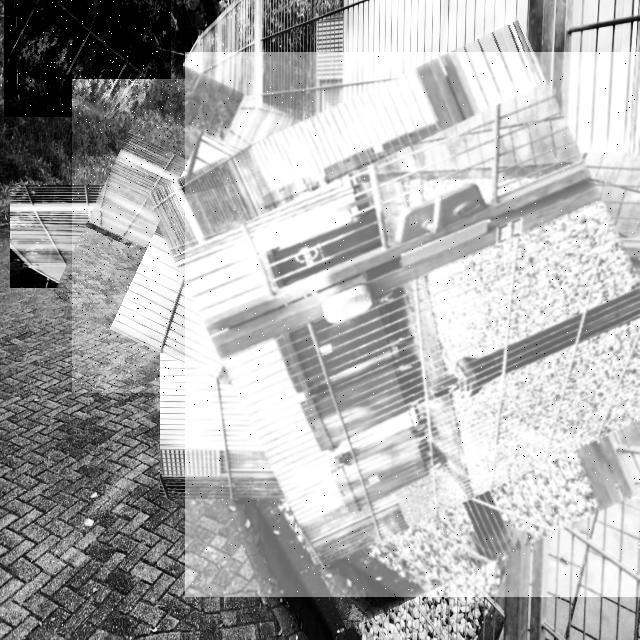fences: (185, 52, 640, 597), (72, 79, 386, 393), (4, 0, 171, 117)
